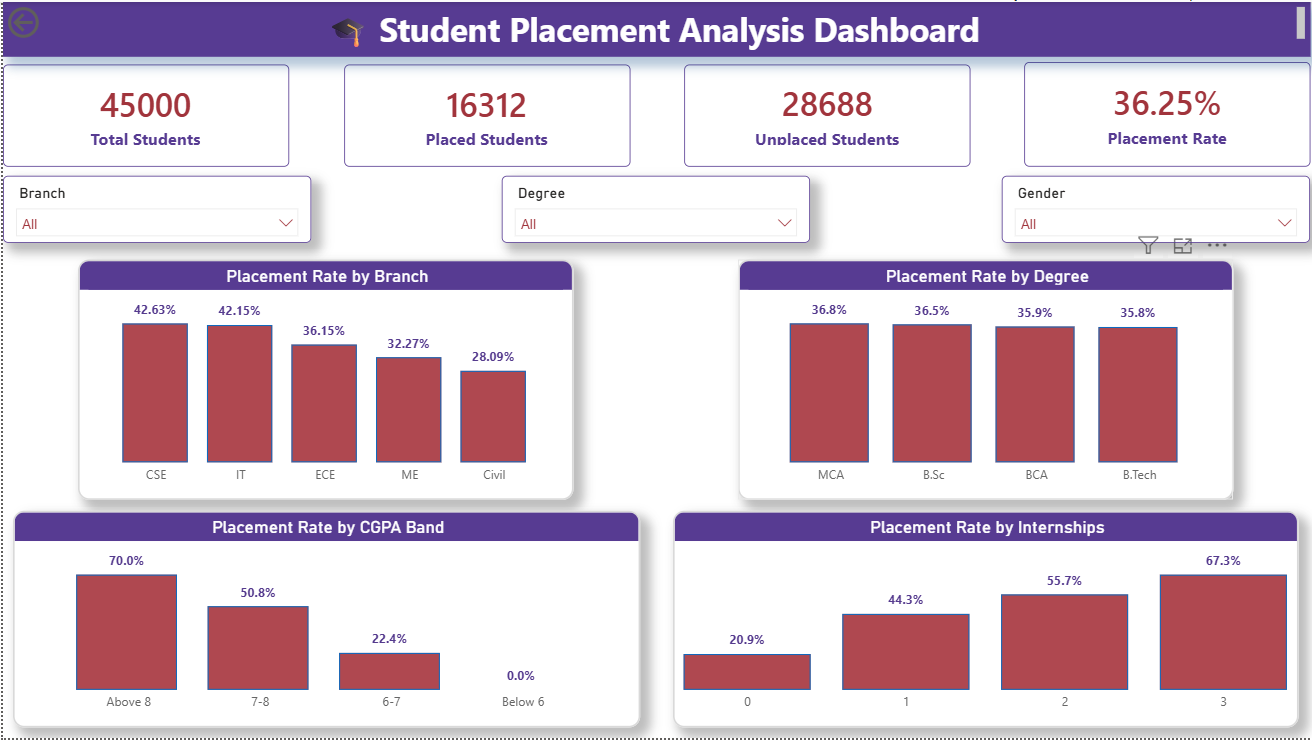

Layout of this report page (visuals, bound fields, positions):
{"tool":"powerbi","page":{"name":"Page 1","canvas":[1280,720],"ordinal":0},"visuals":[{"type":"cardVisual","fields":{"Data":["student_data.Total Students"]},"box":[0,61.7,279.9,100.2],"z":0},{"type":"cardVisual","fields":{"Data":["student_data.Placed_students"]},"box":[333.4,61.7,279.9,100.2],"z":1000},{"type":"cardVisual","fields":{"Data":["student_data.Unplaced_students"]},"box":[666.8,61.5,280.1,99.7],"z":2000},{"type":"cardVisual","fields":{"Data":["student_data.Placement Rate"]},"box":[998.8,58.8,280.1,102.5],"z":3000},{"type":"columnChart","fields":{"Category":["student_data.Branch"],"Y":["student_data.Placement Rate"]},"box":[73.8,251.4,485.1,235],"z":4000},{"type":"columnChart","fields":{"Category":["student_data.Degree"],"Y":["student_data.Placement Rate"]},"box":[718.7,251.4,485.1,235],"z":5000},{"type":"clusteredColumnChart","fields":{"Y":["student_data.Placement Rate"],"Category":["student_data.Internships"]},"box":[655.9,497.4,612.1,211.8],"z":6000},{"type":"slicer","fields":{"Values":["student_data.Branch"]},"box":[0,169.4,302,65.6],"z":7000},{"type":"slicer","fields":{"Values":["student_data.Degree"]},"box":[488.5,169.4,302,65.6],"z":8000},{"type":"slicer","fields":{"Values":["student_data.Gender"]},"box":[976.9,169.4,302,65.6],"z":9000},{"type":"textbox","box":[0,0,1278.9,53.3],"z":10000},{"type":"clusteredColumnChart","fields":{"Category":["student_data.CGPA Band"],"Y":["student_data.Placement Rate"]},"box":[9.6,497.4,613.5,211.8],"z":11000},{"type":"actionButton","box":[0,0,100,40],"z":12000}]}

Visuals, with their boxes in screenshot pixels (x1, y1, x2, y2), scaled from the page's 1280x720 canvas onto the 1312x742 screenshot:
cardVisual - student_data.Total Students: <box>0,64,287,167</box>
cardVisual - student_data.Placed_students: <box>342,64,629,167</box>
cardVisual - student_data.Unplaced_students: <box>683,63,971,166</box>
cardVisual - student_data.Placement Rate: <box>1024,61,1311,166</box>
columnChart - student_data.Branch x student_data.Placement Rate: <box>76,259,573,501</box>
columnChart - student_data.Degree x student_data.Placement Rate: <box>737,259,1234,501</box>
clusteredColumnChart - student_data.Placement Rate x student_data.Internships: <box>672,513,1300,731</box>
slicer - student_data.Branch: <box>0,175,310,242</box>
slicer - student_data.Degree: <box>501,175,810,242</box>
slicer - student_data.Gender: <box>1001,175,1311,242</box>
textbox: <box>0,0,1311,55</box>
clusteredColumnChart - student_data.CGPA Band x student_data.Placement Rate: <box>10,513,639,731</box>
actionButton: <box>0,0,102,41</box>
